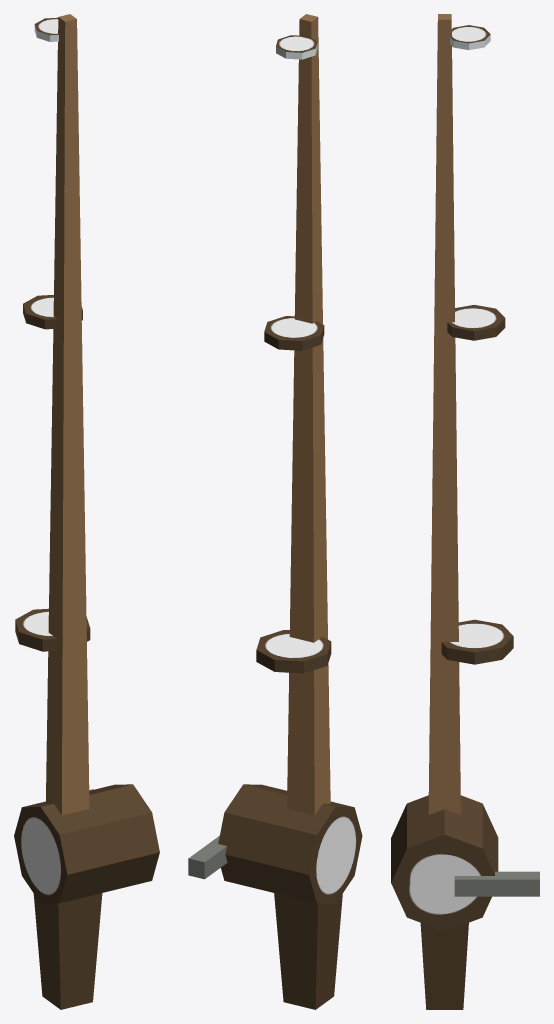
Rendered from fishing_pole.gltf.
3 renders of one model, left to right at view 1: azimuth 30°, elevation 25°; view 2: azimuth 150°, elevation 25°; view 3: azimuth 270°, elevation 25°, orthographic.
Visible parts, largest first — view 1: Pole, Reel, Cylinder.001, Cylinder.002, Cylinder.003; view 2: Pole, Reel, Cylinder.001, Cylinder.002, Lever, Cylinder.003; view 3: Pole, Reel, Cylinder.001, Lever, Cylinder.002, Cylinder.003.
Boxes of the visible parts, x1,y1,x2,y2 form: Pole: [33, 14, 102, 1009]; Reel: [14, 784, 159, 903]; Cylinder.001: [15, 608, 90, 651]; Cylinder.002: [23, 295, 82, 329]; Cylinder.003: [34, 17, 58, 41]; Pole: [274, 14, 342, 1009]; Reel: [218, 784, 362, 903]; Cylinder.001: [256, 630, 331, 673]; Cylinder.002: [264, 316, 324, 350]; Lever: [188, 835, 227, 879]; Cylinder.003: [276, 35, 317, 59]; Pole: [420, 14, 468, 1009]; Reel: [391, 795, 498, 931]; Cylinder.001: [441, 619, 513, 664]; Lever: [454, 871, 539, 896]; Cylinder.002: [447, 305, 505, 340]; Cylinder.003: [450, 25, 490, 50].
Size of the model in its own units: 0.2305 by 2.03 by 0.2773.
Materials: 1 (1 with a texture image).
